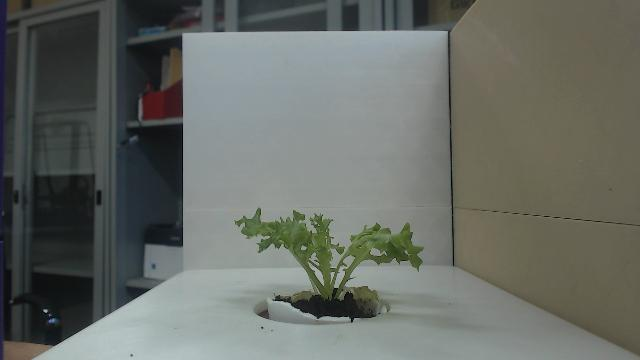Vegetative Stage: (233, 206, 425, 305)
